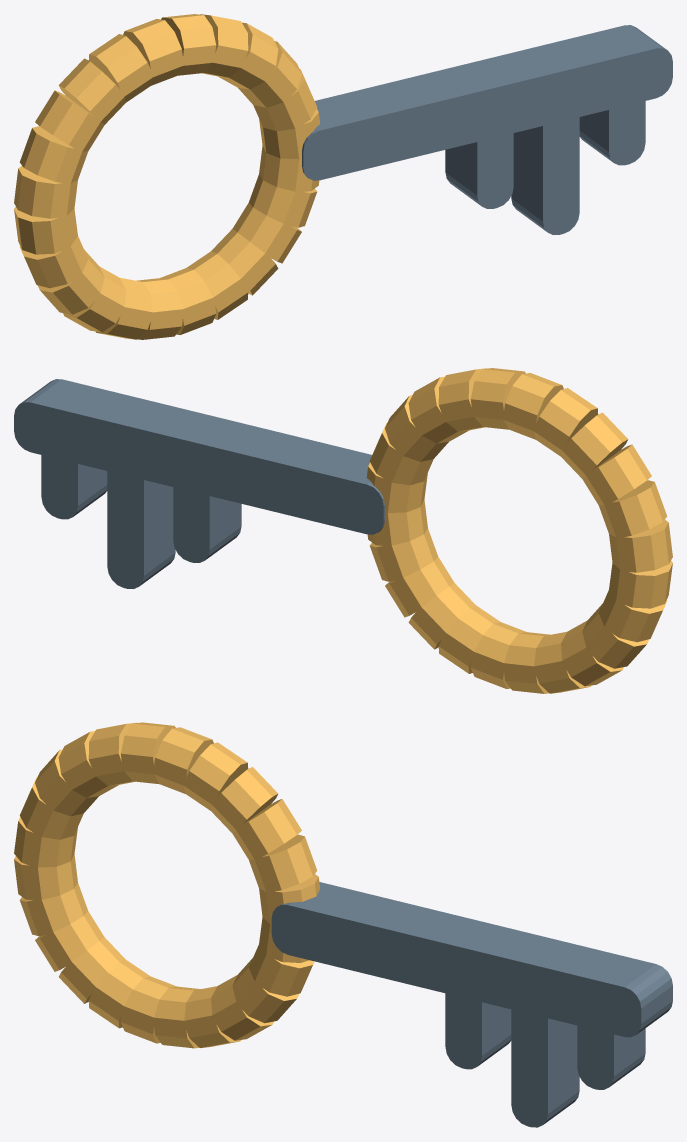
The model's file is key.glb.
3 renders of one model, top to bottom at view 1: azimuth 30°, elevation 25°; view 2: azimuth 150°, elevation 25°; view 3: azimuth 330°, elevation 25°, orthographic.
Parts seen in each view (by area): view 1: shaft, tooth 1, tooth 0, tooth 2, key ring10, key ring7, key ring8, key ring9, key ring11, key ring6, key ring12, key ring5 (+16 smaller); view 2: shaft, tooth 1, tooth 0, tooth 2, key ring10, key ring7, key ring8, key ring9, key ring11, key ring6, key ring12, key ring5 (+16 smaller); view 3: shaft, tooth 1, tooth 0, tooth 2, key ring1, key ring4, key ring3, key ring2, key ring5, key ring6, key ring14, key ring15 (+16 smaller).
Boxes of the visible parts, x1,y1,x2,y2 form: shaft: (302,25,672,180); tooth 1: (511,103,579,234); tooth 0: (445,119,513,208); tooth 2: (579,87,645,165); key ring10: (19,126,88,184); key ring7: (88,34,153,102); key ring8: (58,58,125,124); key ring9: (35,90,104,151); key ring11: (14,166,77,218); key ring6: (123,19,183,85); key ring12: (14,207,77,254); key ring5: (161,14,216,75); shaft: (14,379,384,534); tooth 1: (107,457,175,588); tooth 0: (173,473,241,562); tooth 2: (41,442,107,519); key ring10: (598,480,667,538); key ring7: (533,388,598,456); key ring8: (561,412,628,478); key ring9: (582,444,651,505); key ring11: (609,520,672,572); key ring6: (503,373,563,439); key ring12: (609,561,672,608); key ring5: (470,368,525,429); shaft: (271,882,672,1037); tooth 1: (511,996,579,1127); tooth 0: (445,981,511,1069); tooth 2: (577,1012,645,1089); key ring1: (249,834,317,891); key ring4: (183,742,248,810); key ring3: (211,767,278,833); key ring2: (232,799,301,859); key ring5: (154,727,213,793); key ring6: (120,722,175,784); key ring14: (35,911,104,971); key ring15: (59,937,125,1003).
Size of the model in its own units: 1.75 by 0.8228 by 0.15.
